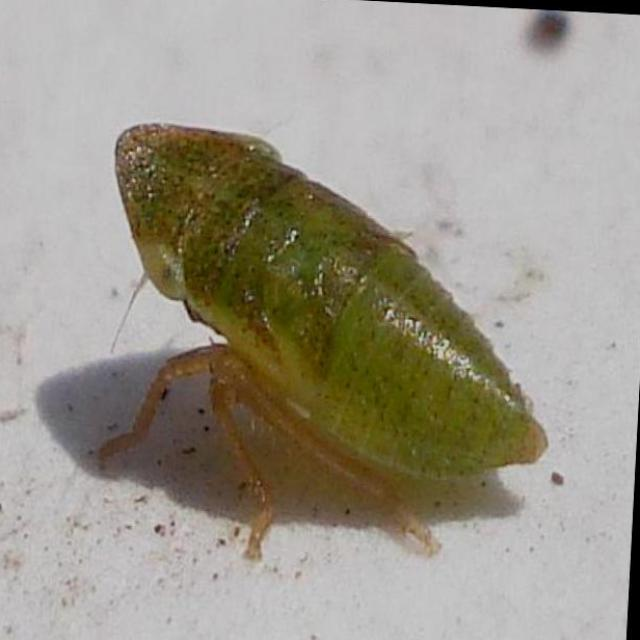green leaf hopper: (101, 124, 548, 555)
